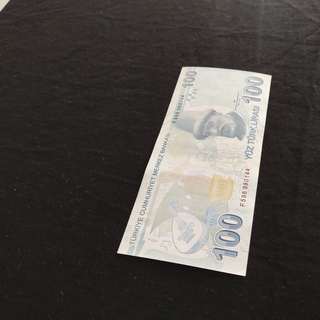100TLBack: (115, 66, 272, 276)
